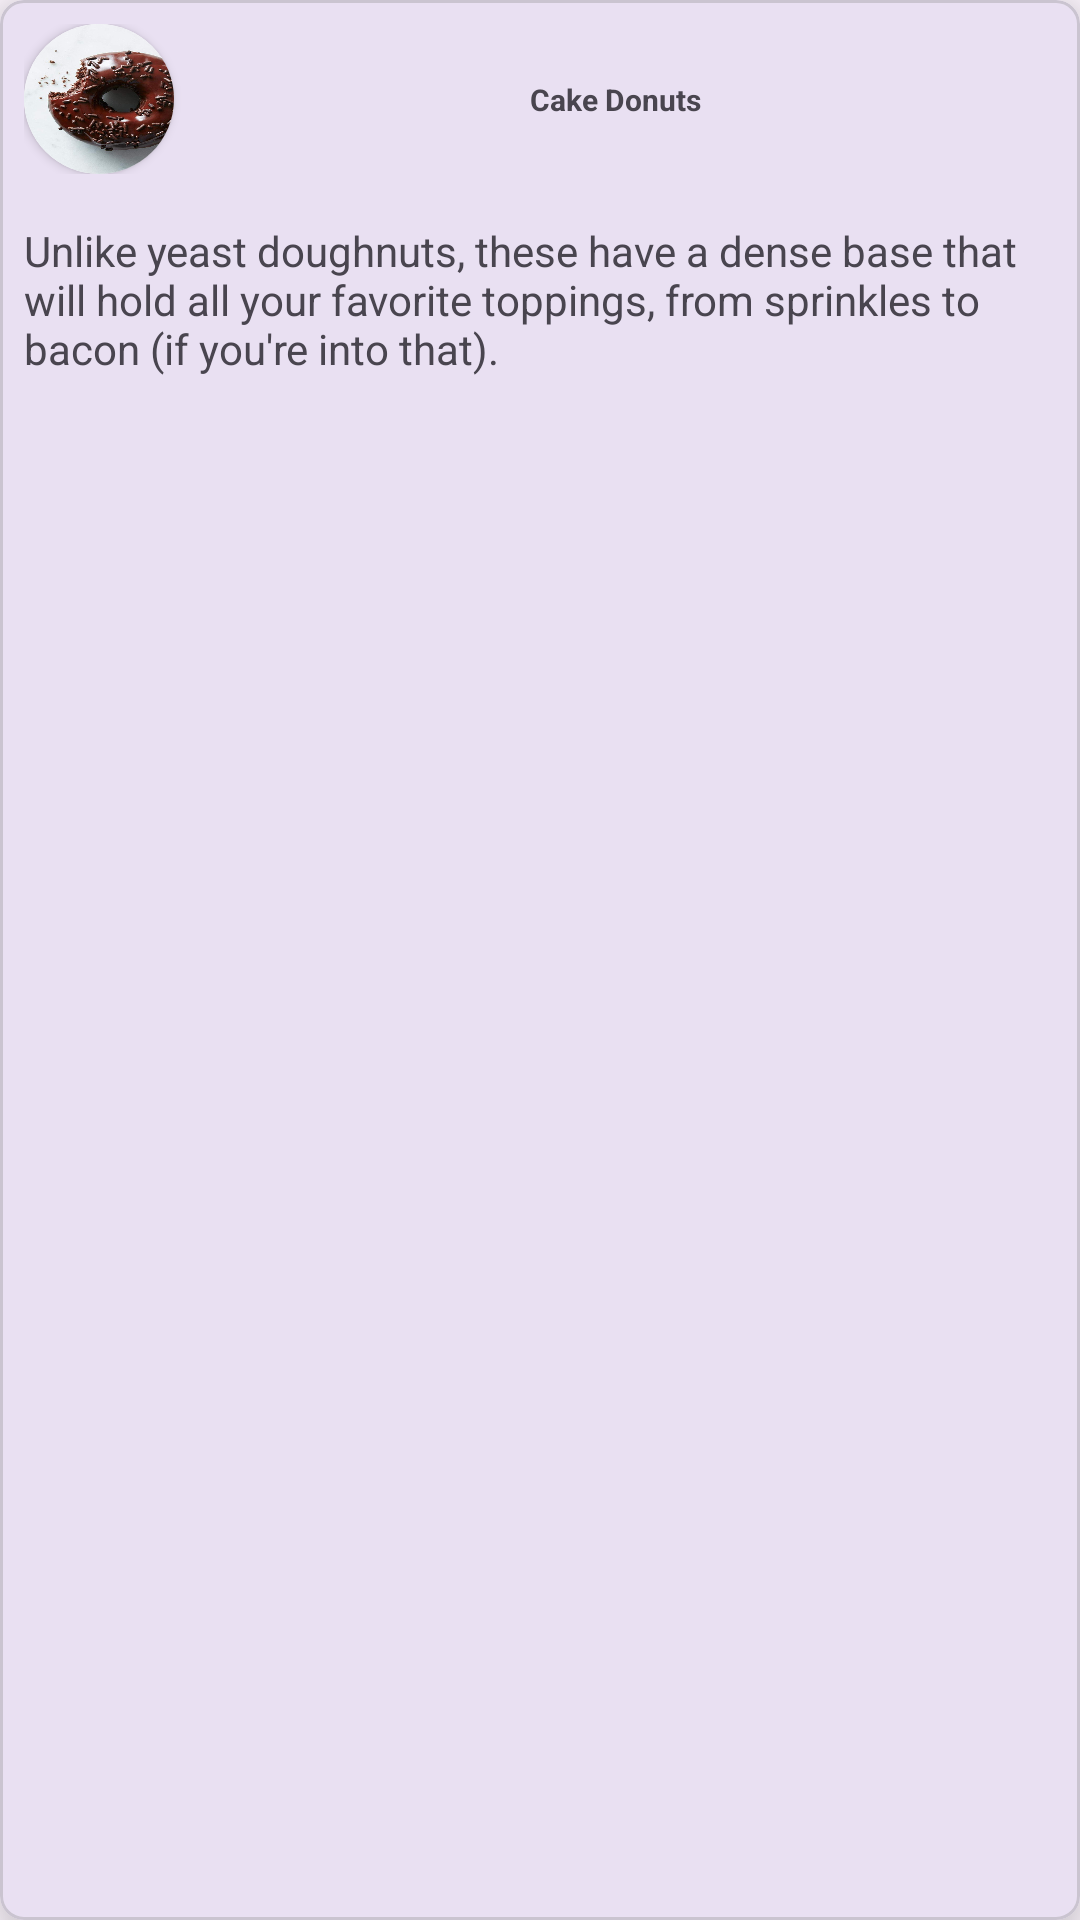

Named icons in this screenshot (1080*1920) and their bounding boxes, rect(x1, y1, x2, y2):
donut: rect(24, 33, 174, 174)
